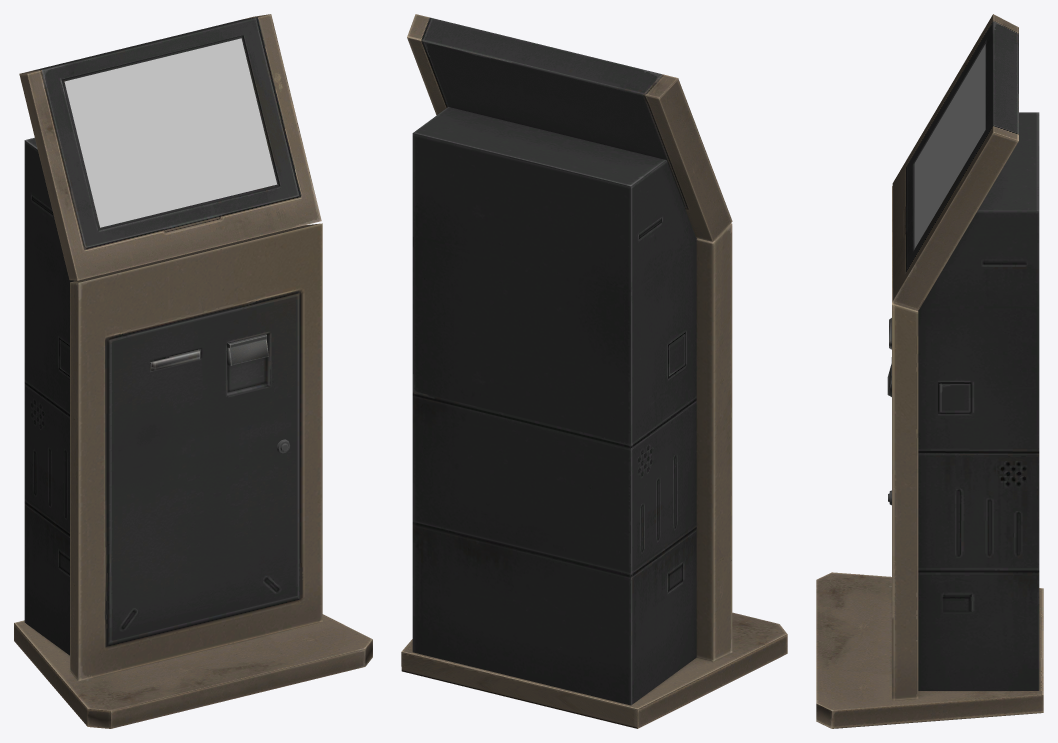
The model's file is terminal_freestanding.dae.
3 views of the same model, side by side, from view 1: azimuth 30°, elevation 25°; view 2: azimuth 150°, elevation 25°; view 3: azimuth 270°, elevation 25° (orthographic). The views are drawn at different scales.
Parts seen in each view (by area): view 1: terminal_freestanding, screen; view 2: terminal_freestanding; view 3: terminal_freestanding, screen.
Part boxes in pixels (x1,y1,x2,y2): terminal_freestanding: (14, 14, 372, 728); screen: (64, 38, 277, 227); terminal_freestanding: (401, 14, 787, 728); terminal_freestanding: (816, 14, 1043, 728); screen: (914, 44, 985, 248).
Bounding box in the file's own units: 0.8934 × 1.76 × 0.6201.
